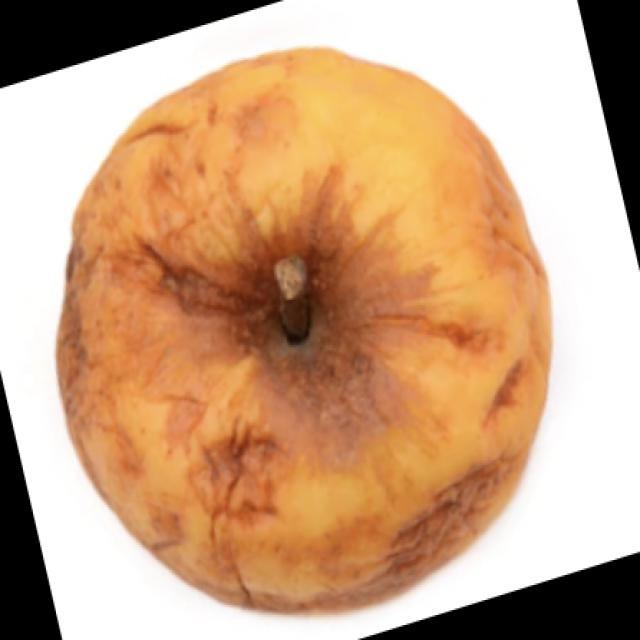Rotten: (49, 45, 554, 600)
